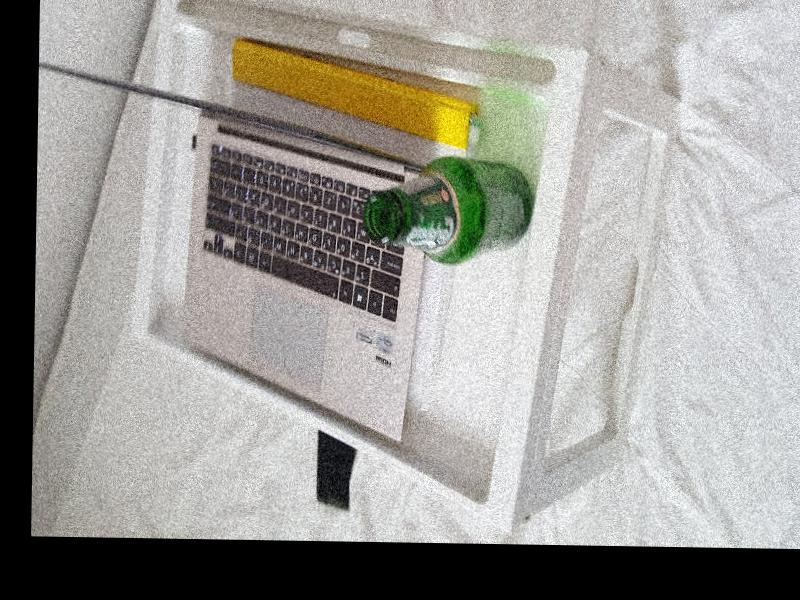Beer: (363, 156, 534, 263)
